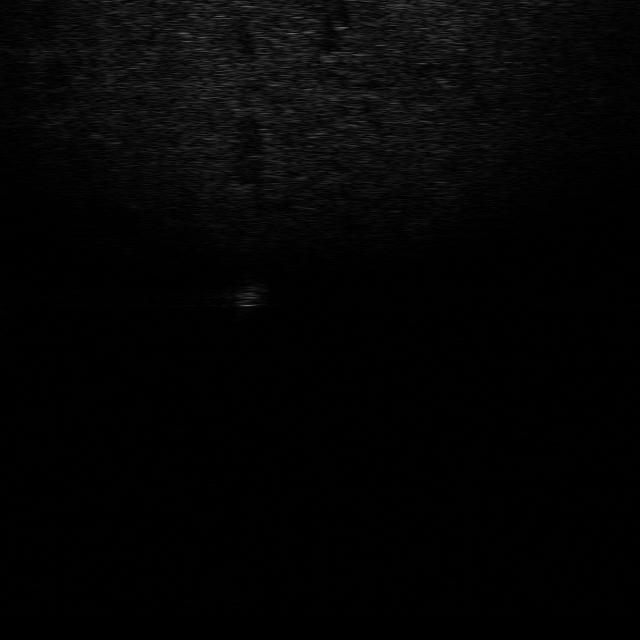human body: (228, 274, 268, 324)
